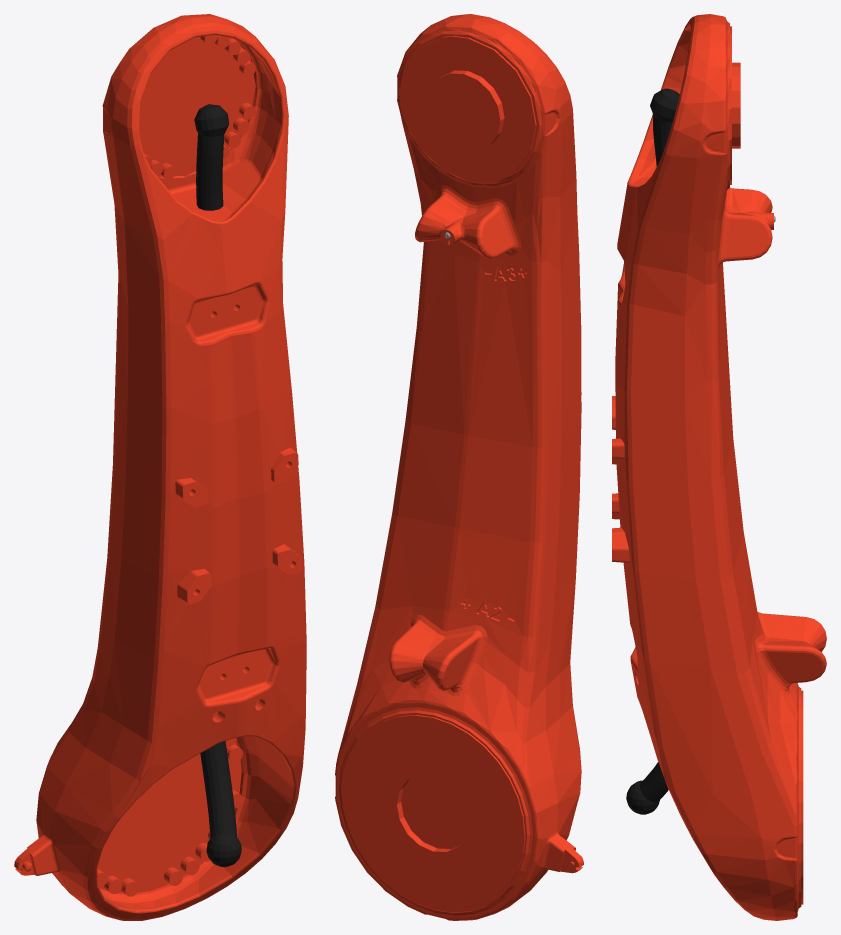
The picture shows the model from 3 angles, left to right: view 1: azimuth 30°, elevation 25°; view 2: azimuth 150°, elevation 25°; view 3: azimuth 270°, elevation 25°; orthographic projection. The views are drawn at different scales.
Visible parts, largest first — view 1: link_2; view 2: link_2; view 3: link_2.
Boxes of the visible parts, x1,y1,x2,y2 form: link_2: (14,14,306,920); link_2: (335,14,583,920); link_2: (612,14,826,920).
Size of the model in its own units: 0.3262 by 0.2505 by 1.14.
